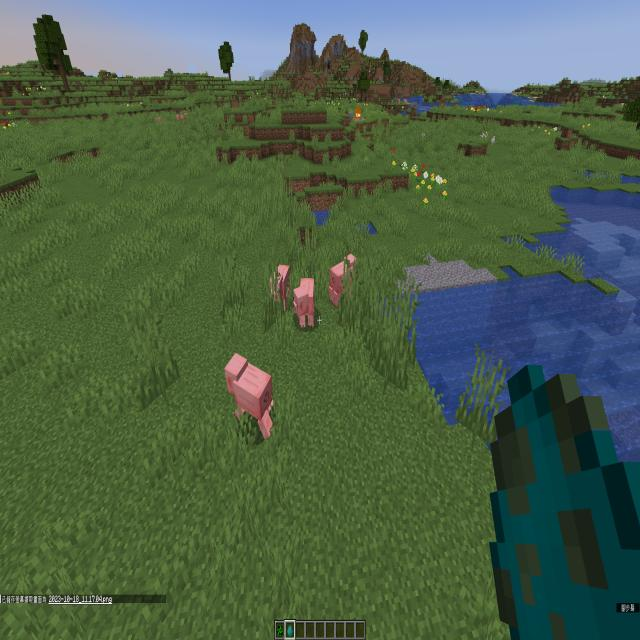pig: (210, 333, 290, 460), (326, 228, 365, 324), (291, 259, 322, 334), (266, 248, 292, 320)
